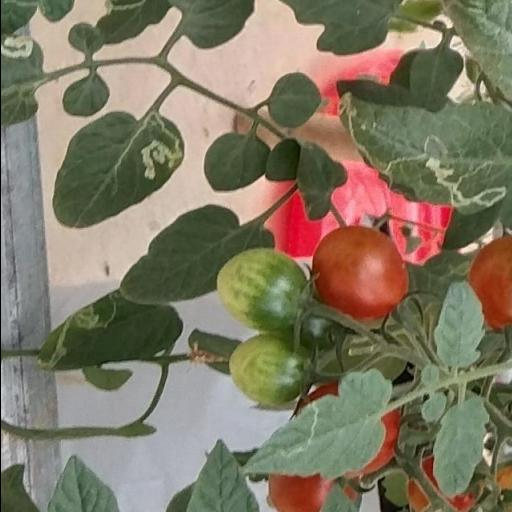Healthy: (430, 394, 490, 498), (432, 282, 485, 367), (203, 130, 271, 193), (268, 70, 324, 128)
Leaf Miner: (328, 88, 512, 220), (238, 368, 394, 482), (48, 109, 188, 231), (30, 290, 186, 376)
